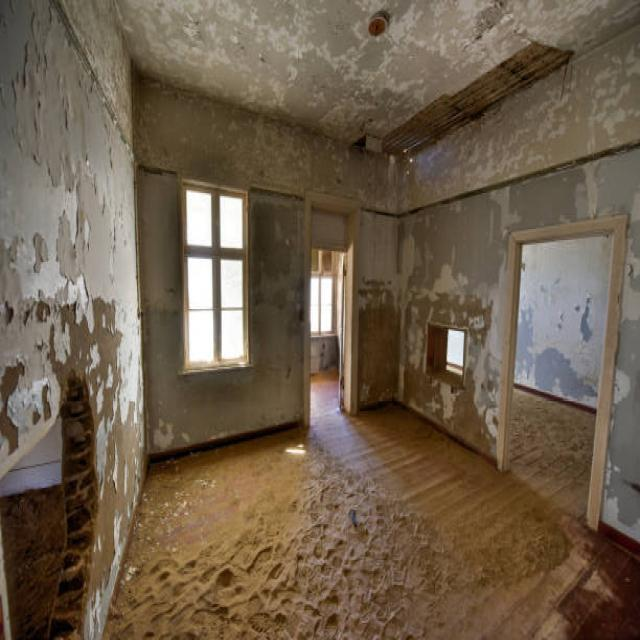floor: (102, 363, 640, 640), (0, 482, 66, 640)
wall: (397, 24, 640, 560), (135, 74, 403, 466), (514, 236, 612, 410), (170, 176, 250, 375), (356, 208, 401, 415), (311, 336, 339, 376), (446, 329, 464, 366)
